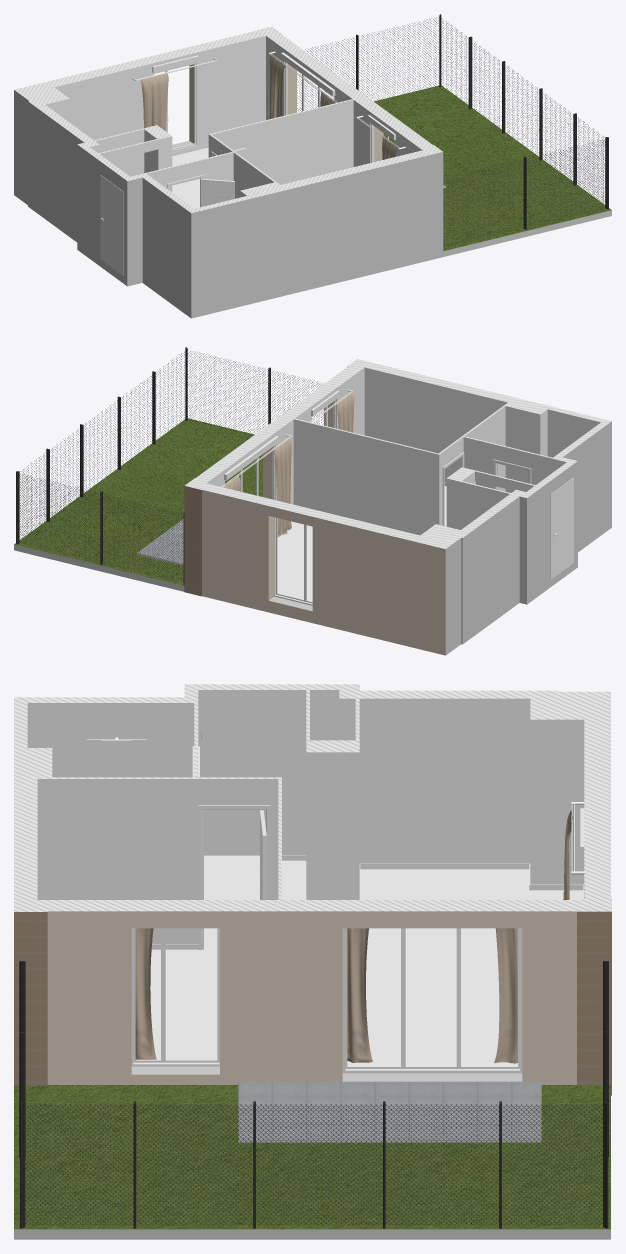
The model's file is t2_a001_04.6_with_light_25min.gltf.
The picture shows the model from 3 angles, top to bottom: view 1: azimuth 30°, elevation 25°; view 2: azimuth 150°, elevation 25°; view 3: azimuth 270°, elevation 25°; orthographic projection. The views are drawn at different scales.
Visible parts, largest first — view 1: masonry_01, ground_garden_01, exc_fence_01, section_face_01, windows_01, door_01, curtain_03, ground_living_01, curtain_01, interior_door_panel_02, curtain_bar_01; view 2: masonry_01, ground_garden_01, exc_fence_01, section_face_01, ground_living_01, door_01, windows_01, curtain_01, ground_terrace_01, interior_door_frame_01, curtain_02; view 3: masonry_01, ground_garden_01, exc_fence_01, section_face_01, ground_terrace_01, ground_living_01, door_01, windows_01, ground_bed_01, ground_kitchen_01, curtain_01, ground_hall_01 (+4 smaller).
Part boxes in pixels (x1=…): masonry_01: x1=14, y1=36, x2=611, y2=318; ground_garden_01: x1=374, y1=85, x2=611, y2=251; exc_fence_01: x1=297, y1=14, x2=608, y2=246; section_face_01: x1=14, y1=26, x2=442, y2=213; windows_01: x1=152, y1=52, x2=395, y2=162; door_01: x1=100, y1=175, x2=123, y2=275; curtain_03: x1=141, y1=72, x2=168, y2=131; ground_living_01: x1=172, y1=147, x2=208, y2=208; curtain_01: x1=269, y1=54, x2=335, y2=118; interior_door_panel_02: x1=200, y1=178, x2=234, y2=206; curtain_bar_01: x1=132, y1=51, x2=405, y2=149; masonry_01: x1=14, y1=366, x2=611, y2=655; ground_garden_01: x1=14, y1=418, x2=262, y2=585; exc_fence_01: x1=16, y1=347, x2=323, y2=584; section_face_01: x1=185, y1=359, x2=611, y2=549; ground_living_01: x1=277, y1=521, x2=312, y2=601; door_01: x1=550, y1=477, x2=573, y2=579; windows_01: x1=224, y1=390, x2=339, y2=605; curtain_01: x1=223, y1=438, x2=291, y2=537; ground_terrace_01: x1=137, y1=519, x2=183, y2=564; interior_door_frame_01: x1=442, y1=452, x2=531, y2=525; curtain_02: x1=336, y1=392, x2=354, y2=432; masonry_01: x1=14, y1=690, x2=611, y2=1239; ground_garden_01: x1=14, y1=1085, x2=610, y2=1229; exc_fence_01: x1=19, y1=961, x2=608, y2=1228; section_face_01: x1=14, y1=684, x2=611, y2=911; ground_terrace_01: x1=238, y1=1081, x2=541, y2=1139; ground_living_01: x1=347, y1=928, x2=517, y2=1065; door_01: x1=199, y1=714, x2=277, y2=856; windows_01: x1=131, y1=808, x2=584, y2=1073; ground_bed_01: x1=150, y1=949, x2=217, y2=1059; ground_kitchen_01: x1=360, y1=869, x2=583, y2=899; curtain_01: x1=347, y1=928, x2=517, y2=1063; ground_hall_01: x1=204, y1=856, x2=306, y2=949.
Size of the model in its own units: 11.75 by 2.7 by 7.96.
42 materials, 38 textured.
